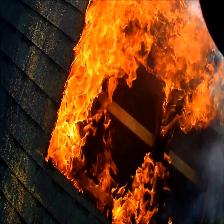fire: (92, 2, 211, 74), (107, 153, 173, 224), (54, 74, 99, 176), (166, 74, 221, 129)
